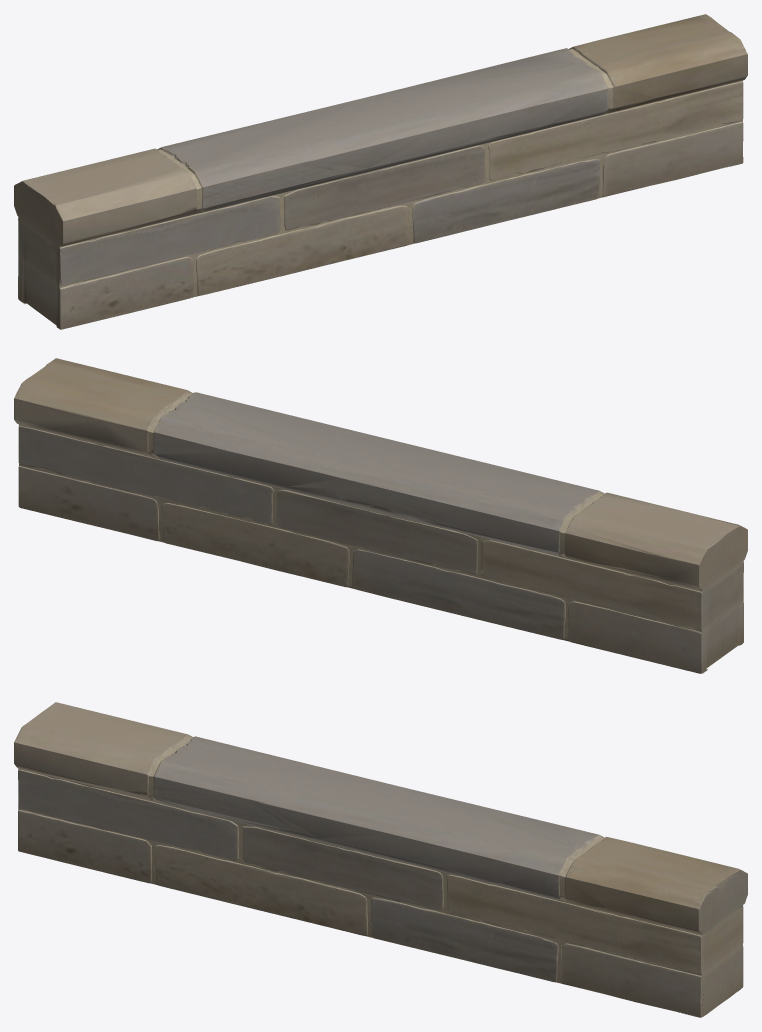
File: familok_stone_plinth.glb
3 renders of one model, top to bottom at view 1: azimuth 30°, elevation 25°; view 2: azimuth 150°, elevation 25°; view 3: azimuth 330°, elevation 25°, orthographic.
Visible parts, largest first — view 1: main; view 2: main; view 3: main.
Boxes of the visible parts, left/top/right/bottom form: main: left=14, top=14, right=747, bottom=329; main: left=14, top=358, right=747, bottom=673; main: left=14, top=702, right=747, bottom=1017.
Size of the model in its own units: 2 by 0.3398 by 0.25.
1 material, 1 textured.
